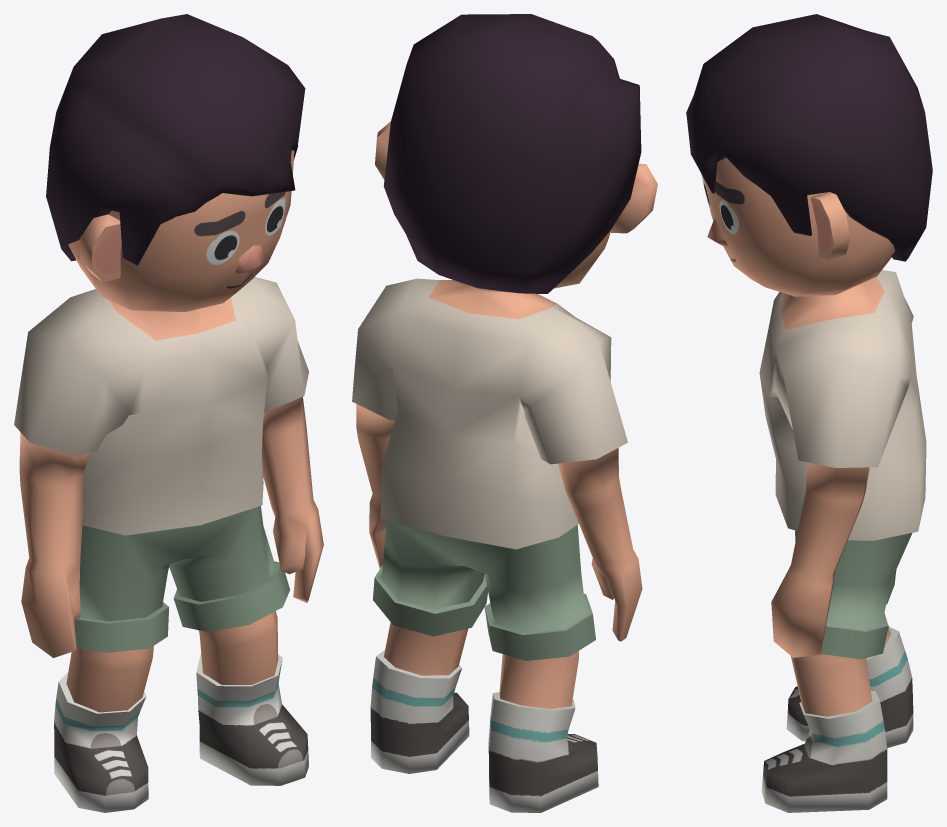
Rendered from Simple_Low_Poly_Character.glb.
The picture shows the model from 3 angles, left to right: view 1: azimuth 30°, elevation 25°; view 2: azimuth 150°, elevation 25°; view 3: azimuth 270°, elevation 25°; orthographic projection. The views are drawn at different scales.
Visible parts, largest first — view 1: unnamed; view 2: unnamed; view 3: unnamed.
Part boxes in pixels (<box>): unnamed: <box>14,14,323,812</box>; unnamed: <box>352,14,657,812</box>; unnamed: <box>686,14,932,812</box>.
Bounding box in the file's own units: 1.61 × 4.13 × 1.27.
1 material, 1 textured.
